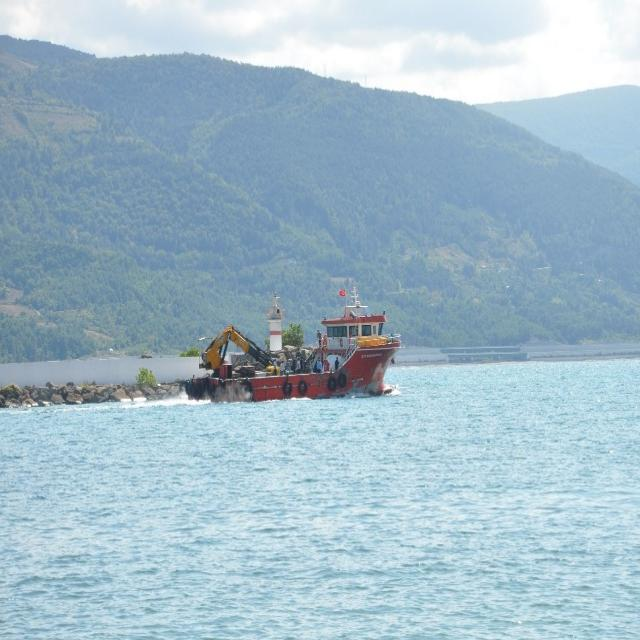fishing boat: (186, 283, 406, 407)
